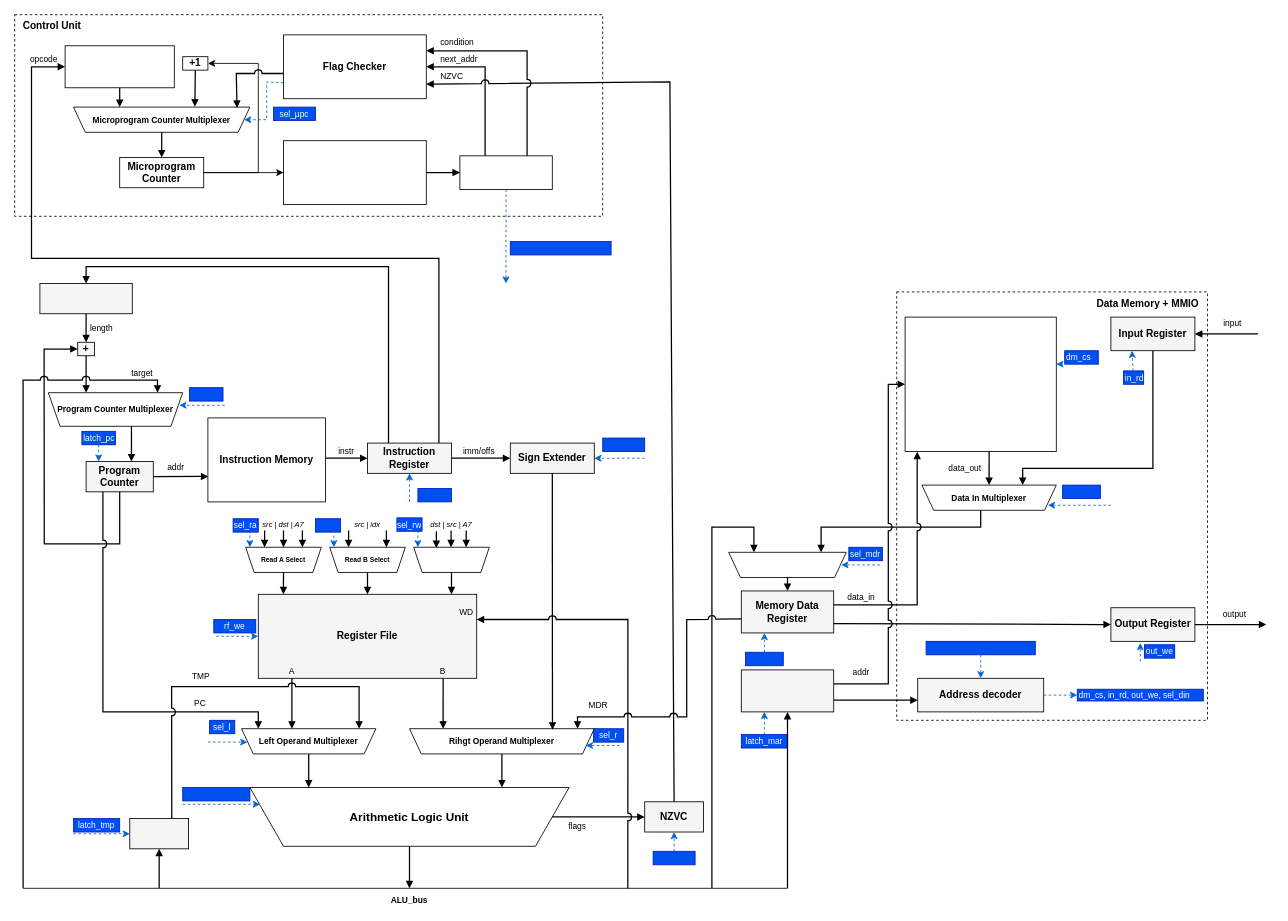
Image size: 1288x921. Some labels were removed from this diagram. Here are the shapes that lost their labels. From the top down, the centre of each, then its label:
the point at 119,66: Opcode decoder
the point at 354,172: Microprogram Memory
the point at 505,172: Microinstruction Register
the point at 560,248: control signals to all units
the point at 85,298: Length Decoder
the point at 206,394: sel_pc
the point at 980,384: Data Memory
the point at 623,444: sext_mode
the point at 434,495: latch_ir
the point at 1081,491: sel_din
the point at 328,525: sel_rb
the point at 451,559: Write Select
the point at 787,564: Memory Data Register Multiplexer
the point at 764,658: latch_mdr
the point at 980,647: dm_rd, dm_wr, dm_size
the point at 787,690: Memory Adress Register
the point at 216,794: alu_op, alu_size
the point at 159,833: Temporary Register
the point at 673,857: latch_nzvc
